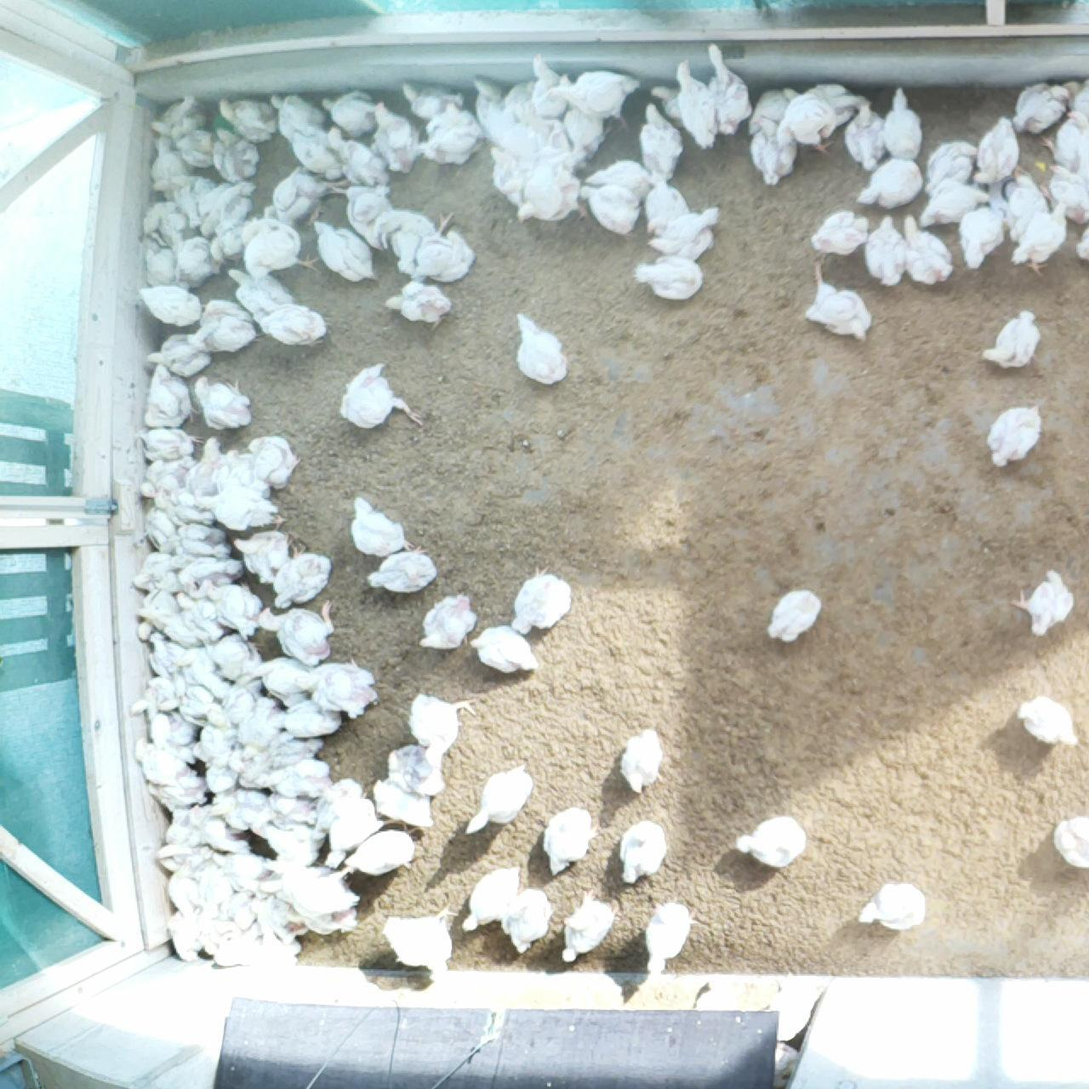chicken: (378, 900, 460, 982), (332, 358, 423, 431), (801, 255, 873, 341), (291, 656, 382, 722), (462, 761, 538, 839), (255, 596, 339, 664), (260, 862, 362, 916), (562, 68, 644, 133), (516, 157, 588, 231), (236, 213, 321, 275), (1006, 565, 1078, 637), (1009, 199, 1075, 277), (704, 41, 757, 138), (510, 562, 577, 638), (262, 170, 356, 224), (414, 207, 479, 284), (310, 216, 380, 287), (559, 887, 620, 966), (406, 688, 480, 753), (322, 797, 387, 871), (670, 53, 719, 151), (638, 895, 698, 975), (734, 808, 810, 871), (898, 210, 959, 288), (647, 201, 727, 260), (418, 96, 484, 167), (513, 309, 573, 386), (460, 861, 523, 934), (985, 400, 1046, 475), (341, 821, 425, 875), (632, 101, 687, 183), (542, 805, 602, 880), (194, 482, 289, 529), (414, 590, 481, 655), (272, 541, 334, 610), (976, 310, 1042, 374), (970, 112, 1021, 194), (364, 542, 439, 597), (231, 515, 289, 586), (499, 885, 557, 956), (325, 122, 389, 186), (574, 181, 645, 238), (369, 98, 423, 172), (856, 880, 931, 933), (251, 302, 330, 352), (748, 117, 802, 190), (852, 156, 926, 209), (351, 495, 414, 557), (864, 211, 913, 290), (142, 362, 200, 428), (631, 253, 706, 304), (617, 817, 671, 887), (389, 737, 453, 796), (1010, 81, 1074, 140), (192, 372, 257, 430), (881, 82, 927, 163), (619, 724, 669, 798), (469, 622, 539, 674), (922, 137, 983, 196), (775, 96, 837, 154), (1015, 693, 1081, 747), (842, 95, 887, 174), (784, 78, 868, 120), (958, 202, 1009, 271), (310, 776, 363, 842), (196, 181, 256, 239), (344, 180, 395, 248), (225, 265, 297, 313), (766, 587, 824, 646), (319, 85, 386, 136), (385, 277, 453, 327), (371, 777, 437, 828), (270, 696, 348, 739), (142, 331, 213, 378), (251, 654, 315, 706), (1006, 173, 1052, 245), (918, 183, 991, 228), (208, 582, 266, 638), (136, 283, 205, 330), (236, 695, 285, 761), (558, 106, 615, 162), (217, 93, 279, 144), (256, 756, 335, 796), (807, 206, 871, 255), (203, 629, 260, 684), (165, 641, 225, 693), (185, 313, 257, 355), (502, 100, 562, 150), (1045, 157, 1089, 225), (389, 208, 435, 273), (642, 170, 689, 233), (210, 124, 261, 182), (467, 74, 512, 139), (249, 433, 301, 488), (528, 49, 570, 117), (400, 77, 466, 120), (251, 893, 308, 942), (487, 143, 528, 210), (208, 785, 265, 833), (177, 555, 245, 595), (172, 232, 224, 284), (139, 454, 195, 502), (1047, 809, 1089, 873), (146, 632, 187, 696), (147, 769, 209, 811), (153, 811, 204, 862), (194, 805, 251, 850), (198, 901, 246, 954), (170, 170, 212, 230), (138, 425, 204, 463), (289, 901, 362, 935), (148, 91, 203, 136), (290, 130, 345, 174), (131, 735, 186, 779), (265, 821, 326, 860), (158, 711, 201, 766), (135, 589, 177, 645), (175, 592, 225, 639), (132, 549, 180, 597), (198, 726, 246, 774), (153, 488, 215, 525), (165, 859, 205, 916), (272, 94, 326, 136), (218, 674, 264, 723), (263, 730, 327, 765), (186, 436, 223, 495), (176, 520, 233, 558), (214, 921, 261, 967), (262, 792, 318, 830), (171, 125, 219, 169), (747, 86, 791, 134), (194, 860, 231, 917), (145, 135, 194, 178), (166, 908, 205, 962), (174, 676, 216, 721), (200, 295, 254, 329), (141, 200, 183, 243), (221, 887, 262, 929), (213, 849, 272, 878), (1042, 115, 1078, 161), (127, 684, 172, 720), (256, 939, 305, 972), (142, 506, 179, 549), (158, 611, 201, 646), (651, 81, 684, 125), (222, 447, 257, 488), (1066, 108, 1089, 166), (143, 245, 177, 283), (505, 77, 534, 116), (220, 228, 250, 264), (205, 762, 237, 794), (1067, 78, 1089, 116), (1072, 225, 1089, 266)
